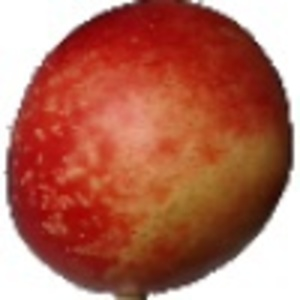nectarina: (4, 1, 300, 300)
